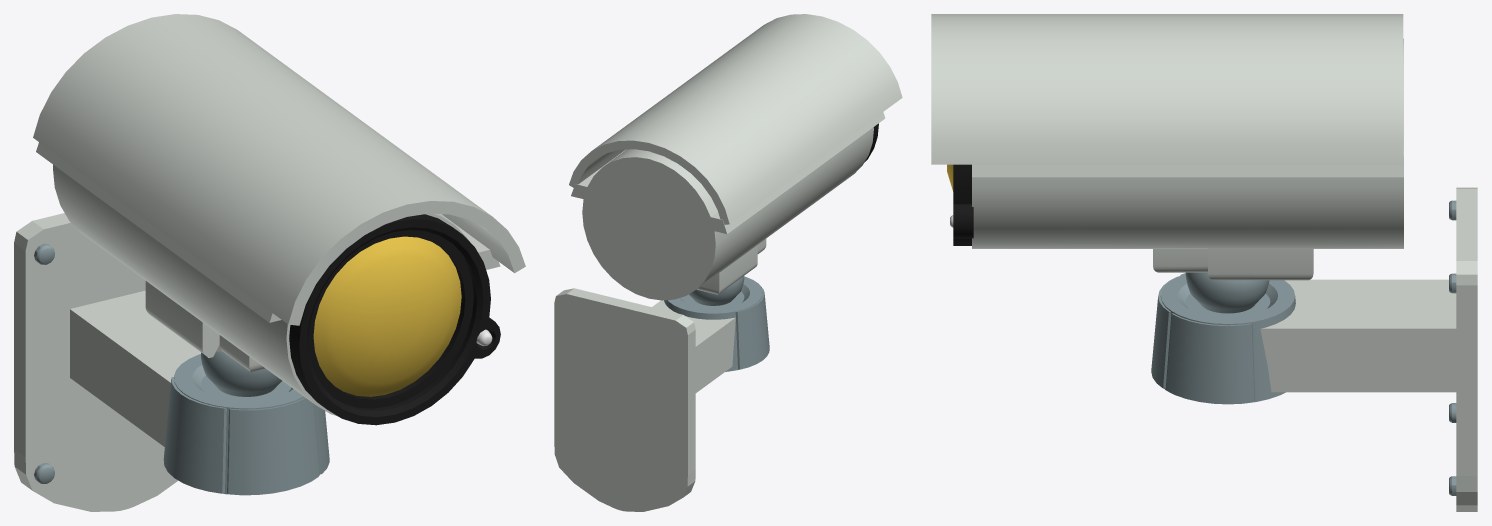
File: security_camera.fbx
The picture shows the model from 3 angles, left to right: view 1: azimuth 30°, elevation 25°; view 2: azimuth 150°, elevation 25°; view 3: azimuth 270°, elevation 25°; orthographic projection. The views are drawn at different scales.
Parts seen in each view (by area): view 1: Cylinder.002, Cube, Cylinder, Cylinder.001, Cylinder.004, Cylinder.003, Circle.001; view 2: Cylinder.002, Cube, Cylinder.001, Cylinder; view 3: Cylinder.002, Cylinder.001, Cube, Cylinder, Cylinder.003, Circle.001.
Part boxes in pixels (x1,y1,x2,y2): Cylinder.002: (33, 14, 525, 325); Cube: (14, 213, 200, 511); Cylinder: (163, 351, 329, 495); Cylinder.001: (36, 142, 500, 416); Cylinder.004: (313, 236, 461, 396); Cylinder.003: (289, 214, 500, 425); Circle.001: (34, 243, 54, 483); Cylinder.002: (569, 14, 902, 224); Cube: (554, 288, 735, 511); Cylinder.001: (571, 112, 885, 300); Cylinder: (664, 276, 769, 371); Cylinder.002: (931, 14, 1403, 164); Cylinder.001: (972, 38, 1403, 280); Cube: (1260, 187, 1477, 511); Cylinder: (1151, 272, 1295, 404); Cylinder.003: (953, 164, 973, 245); Circle.001: (1449, 200, 1456, 495).
Size of the model in its own units: 241 by 498 by 519.
